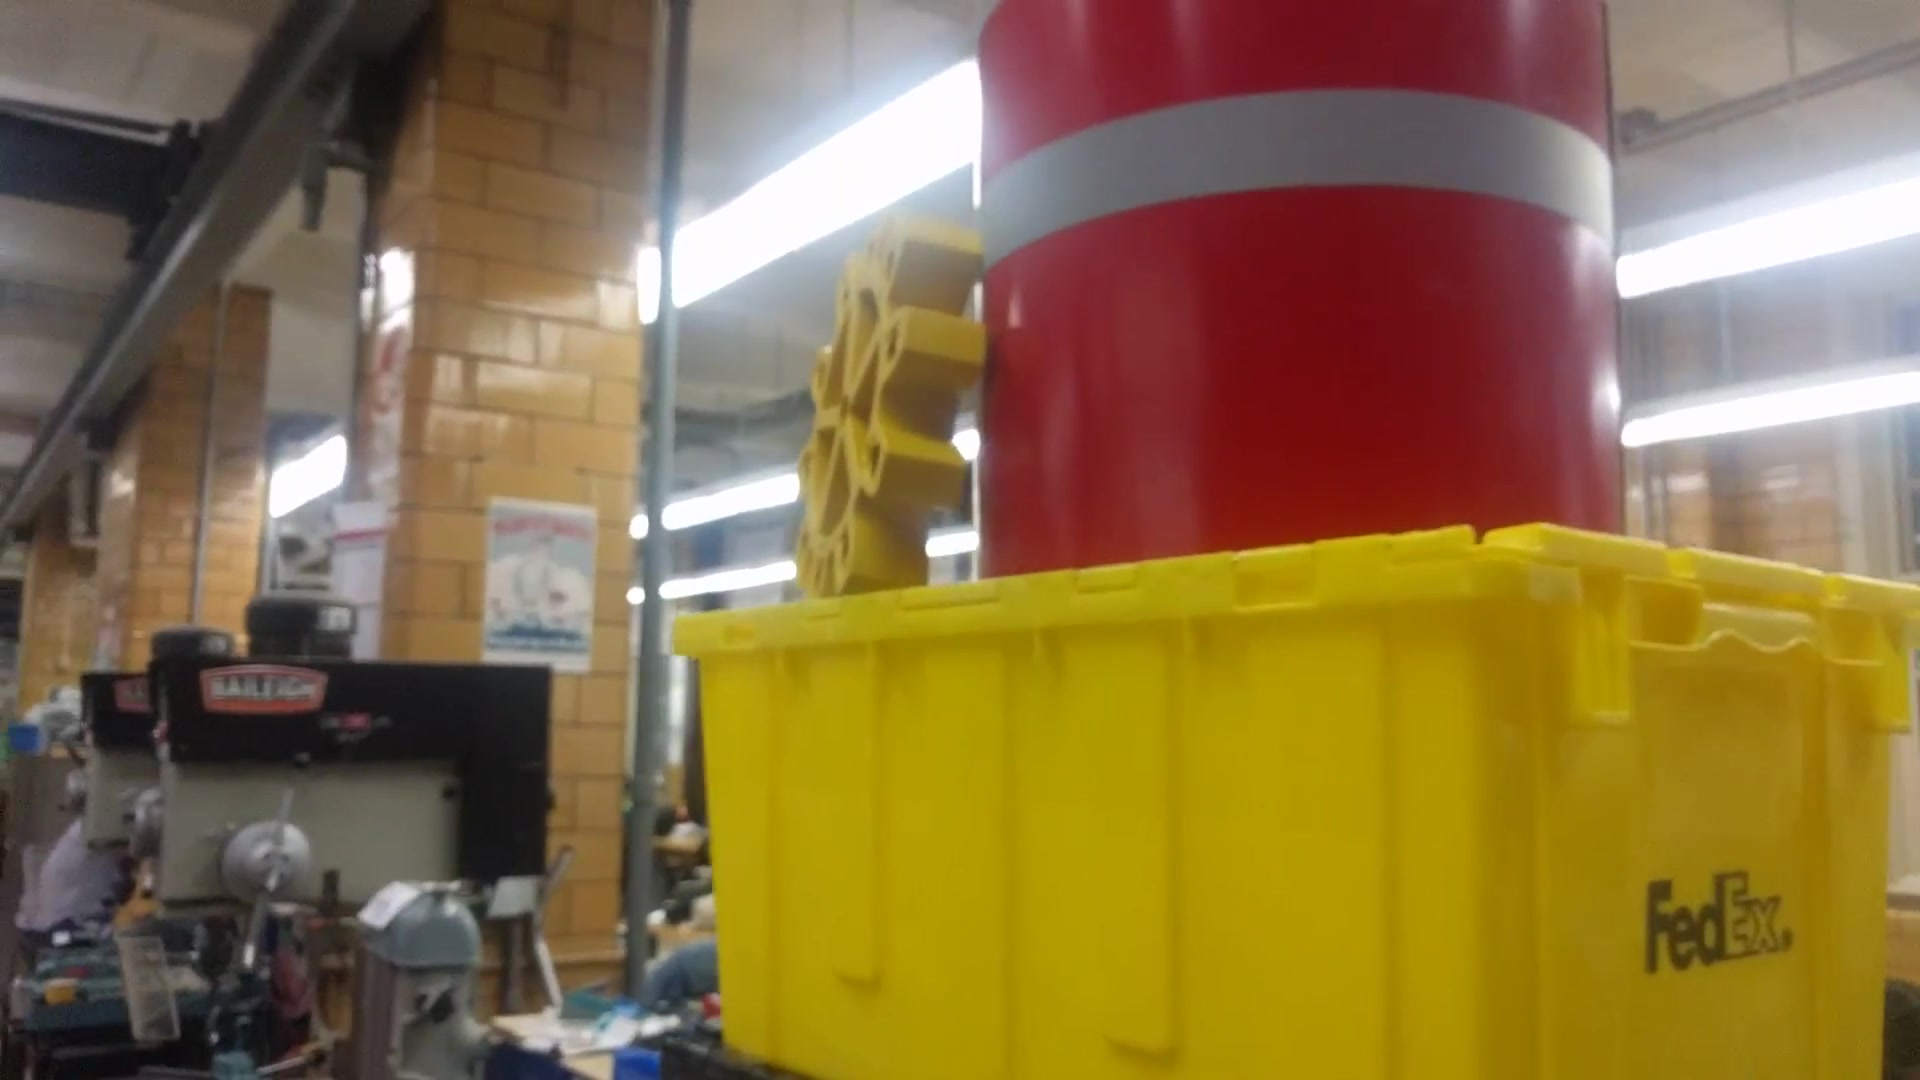gear: (771, 215, 989, 604)
